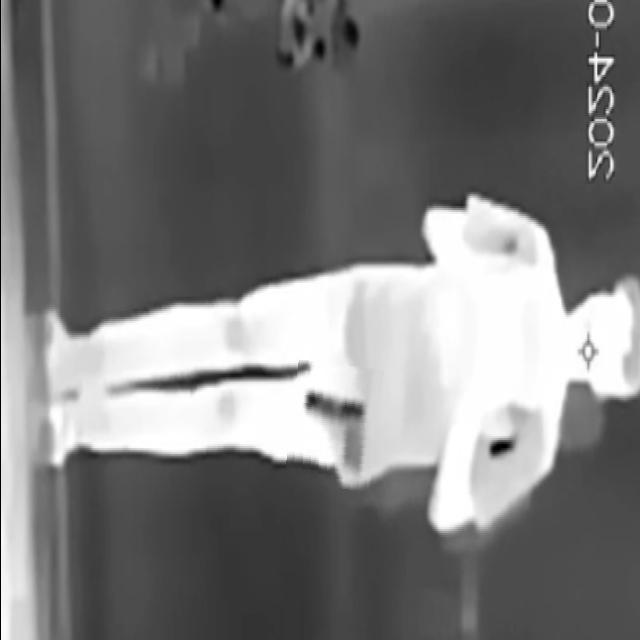Weapon: (286, 362, 379, 489)
